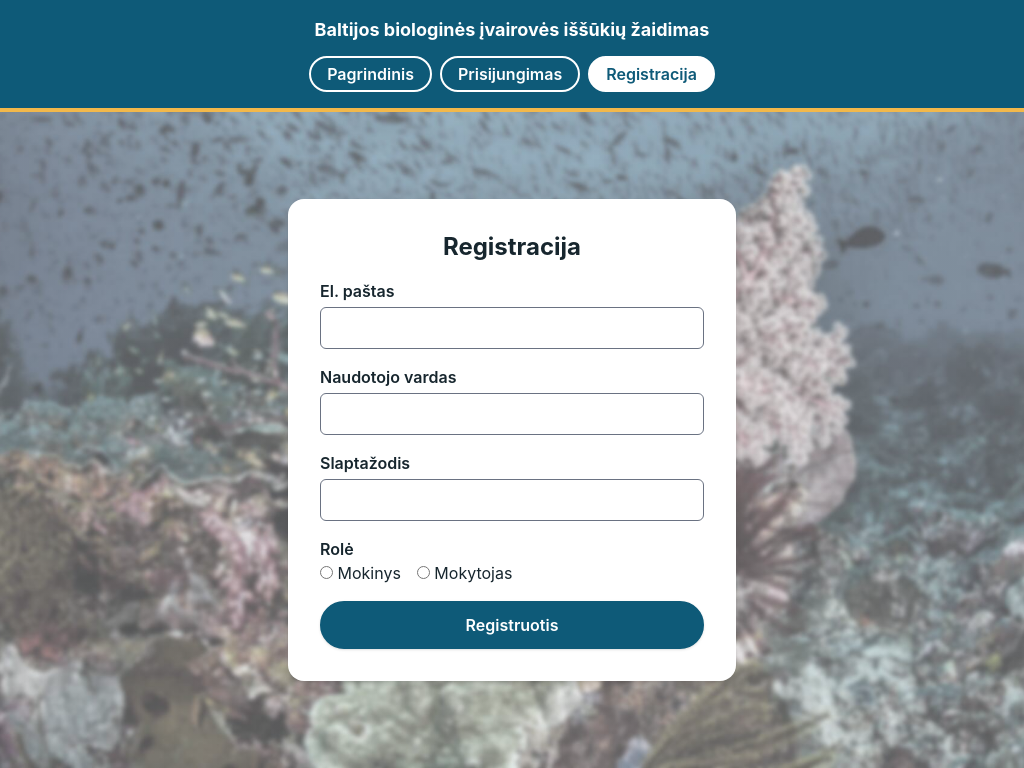
Test: RegisterPage › valid form 201 navigates to login with success message
Type "a@b.com" into the field labelled "El. paštas" at coordinates (512, 328), box [320,307,704,349]
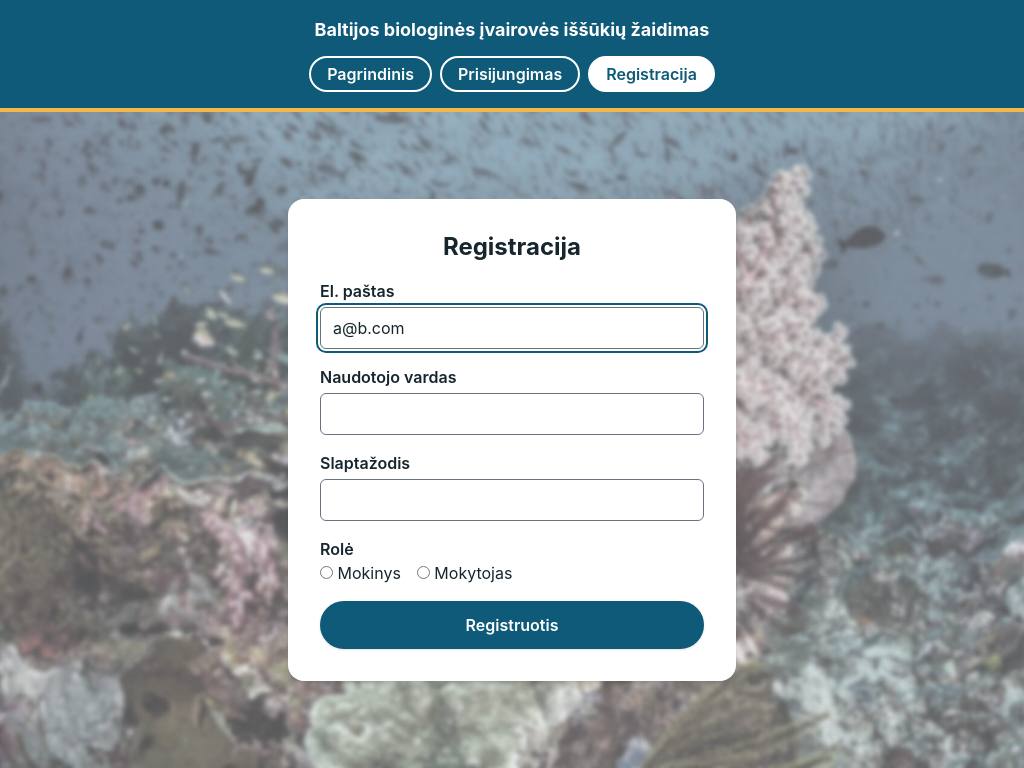
Type "user1" into the field labelled "Naudotojo vardas" at coordinates (512, 414), box [320,393,704,435]
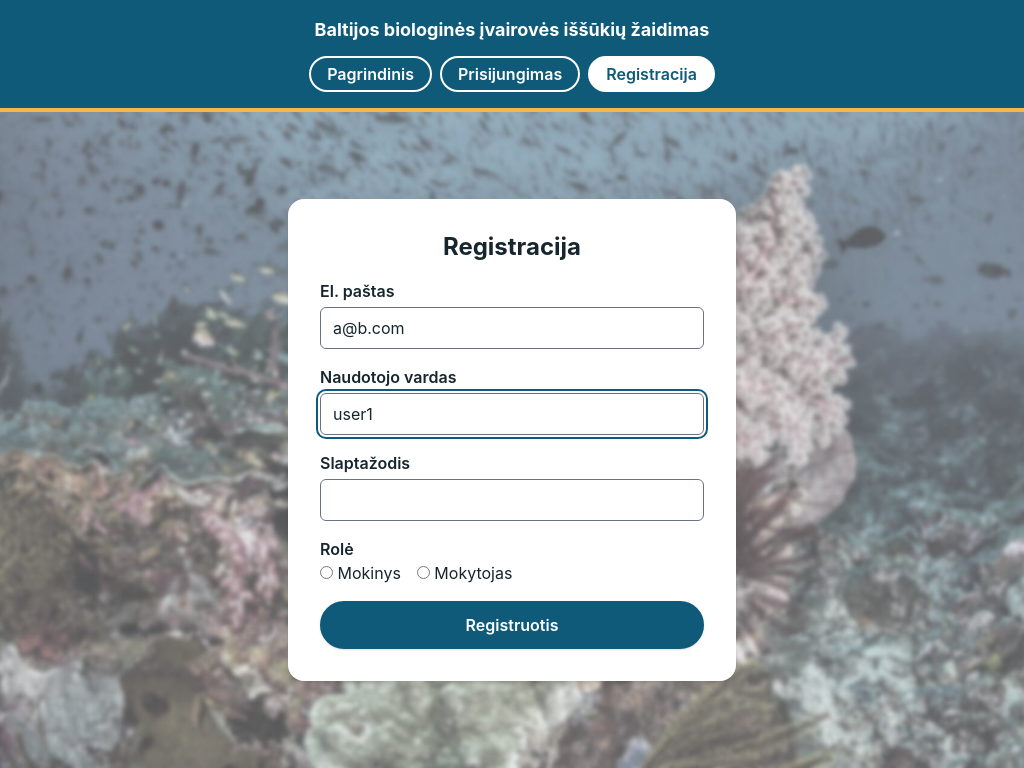
Type "Password123" into the password field labelled "Slaptažodis" at coordinates (512, 500), box [320,479,704,521]
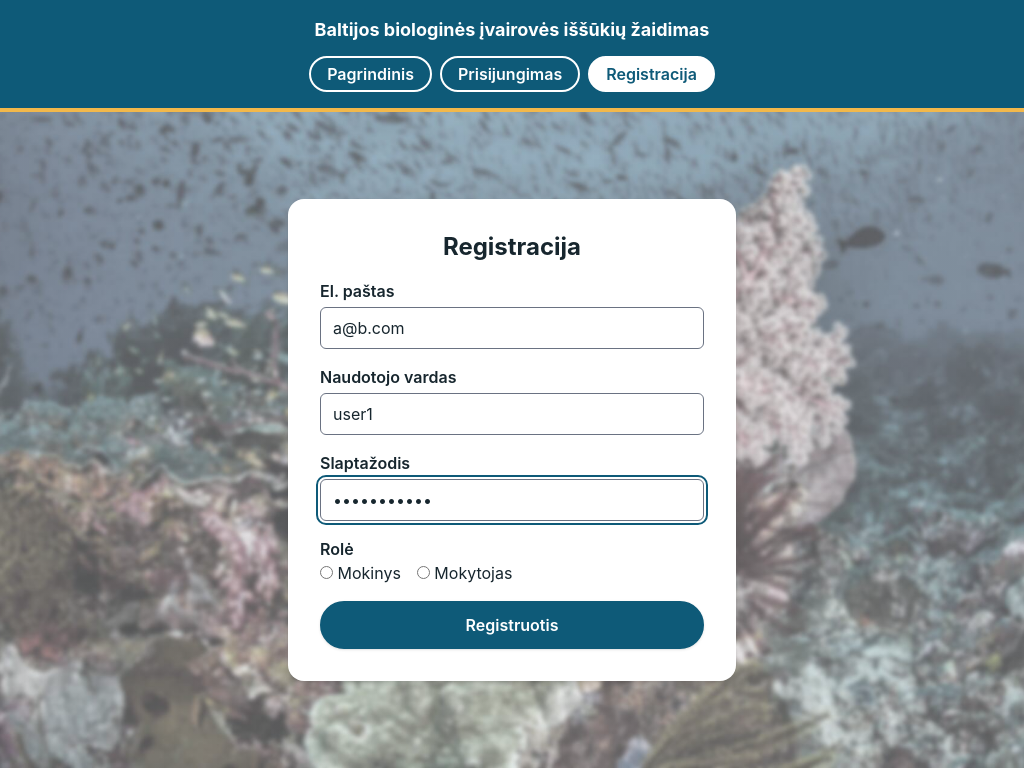
Click the radio button labelled "Mokinys" at coordinates (326, 572), box [320,566,333,579]
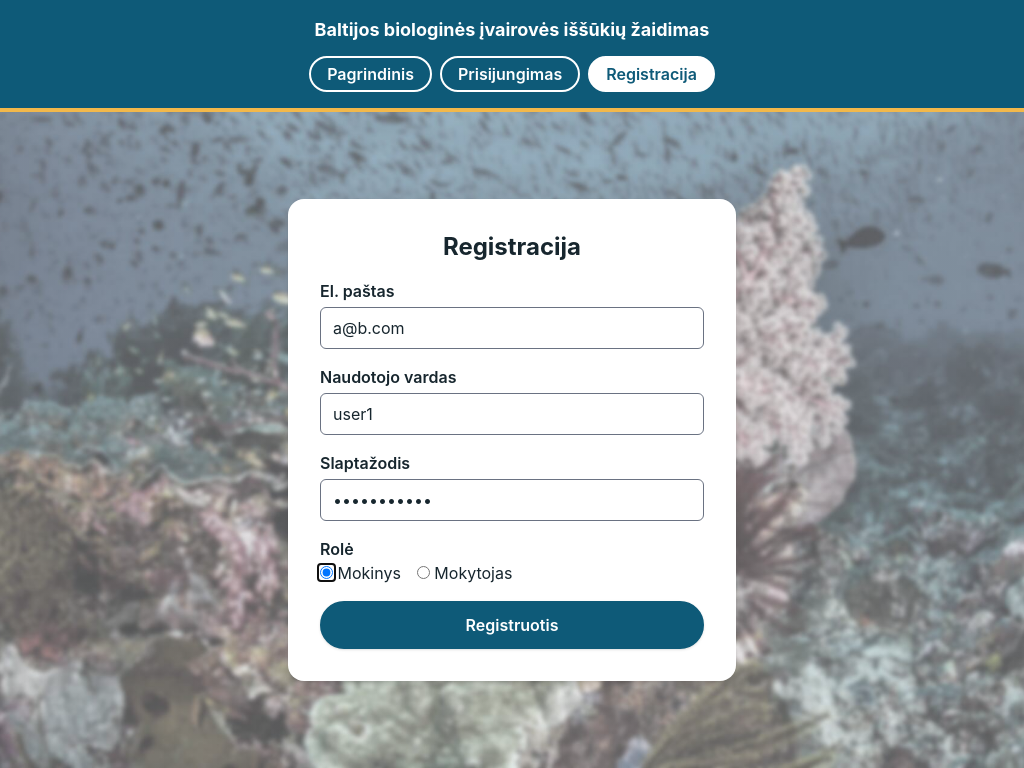
Click the button "Registruotis" at coordinates (512, 625), box [320,601,704,649]
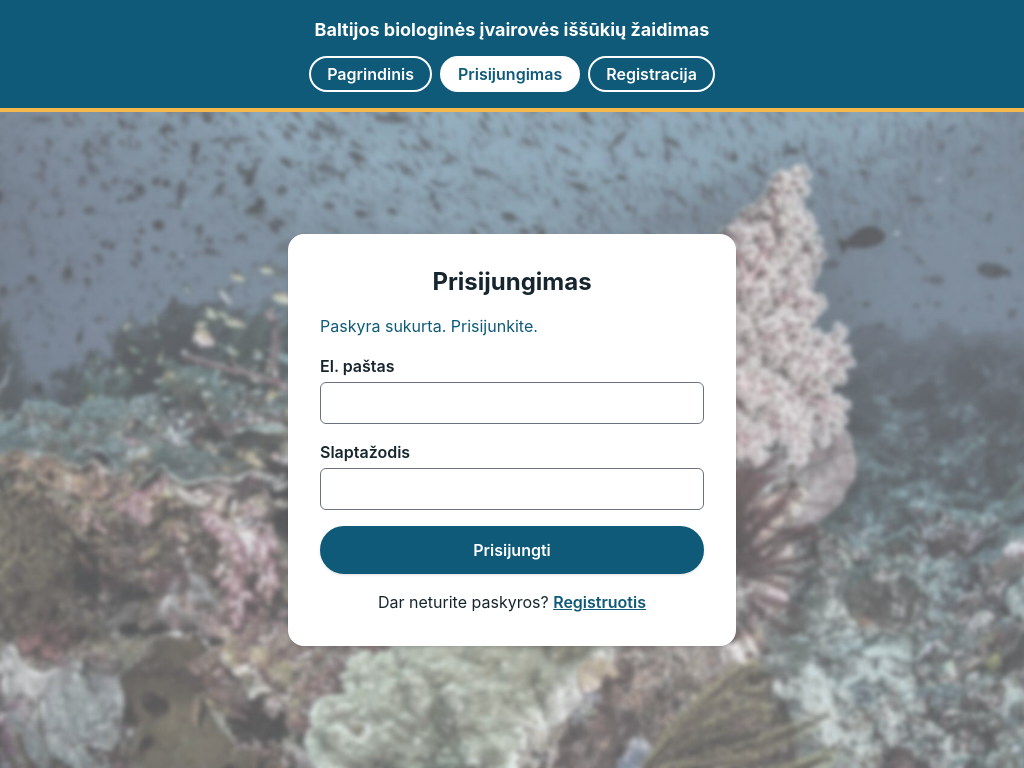
Now the heading "Prisijungimas" is shown, box [432,267,592,296]
Now the text "Paskyra sukurta. Prisijunkite." is shown, box [320,316,538,336]
